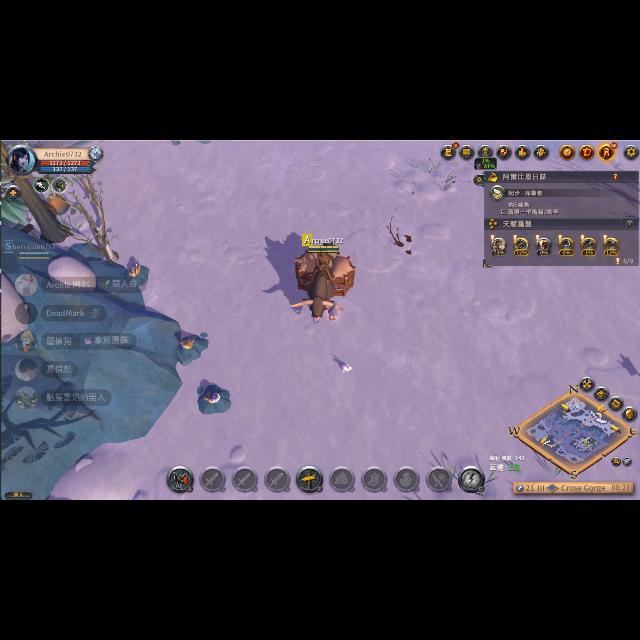mine_ii: (198, 387, 234, 418), (176, 338, 208, 364), (126, 262, 148, 286)
